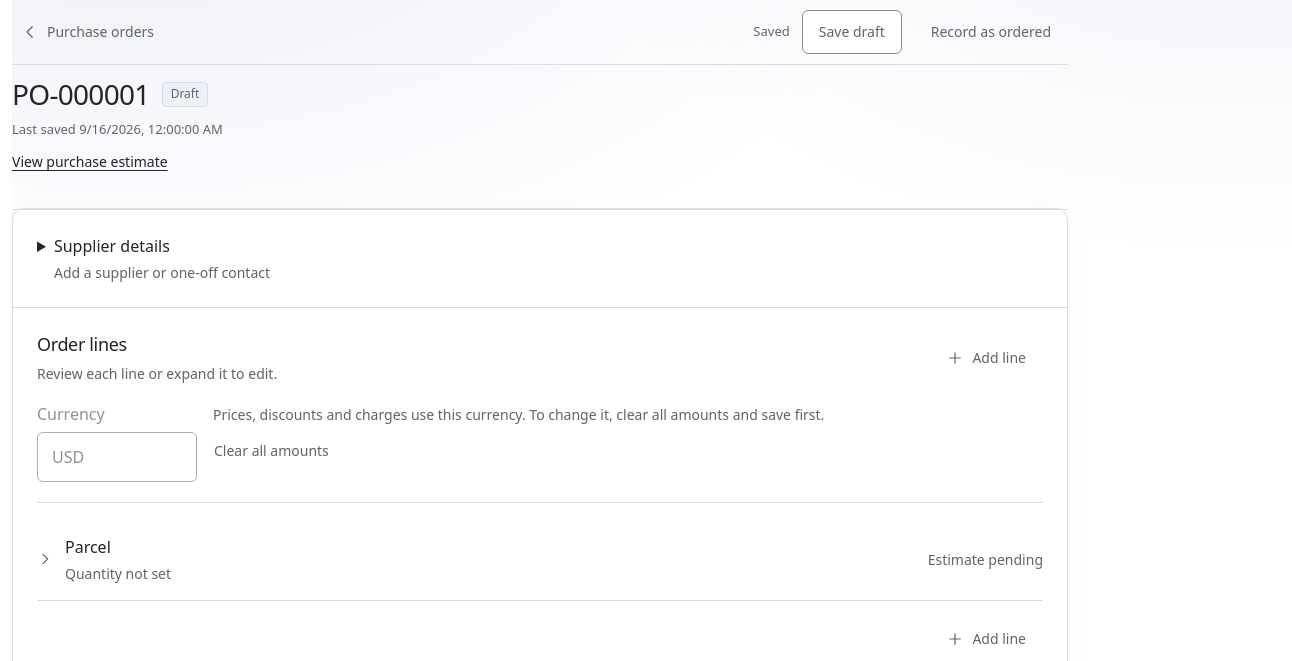
preserves a legacy reference until the owner explicitly adopts perUnit pricing
# THEN the reference is visible without invented quantity or unit price.
Click the heading named "Edit line 1:". click: (88, 547)
box: [37,536,1043,583]
(page scrolled)
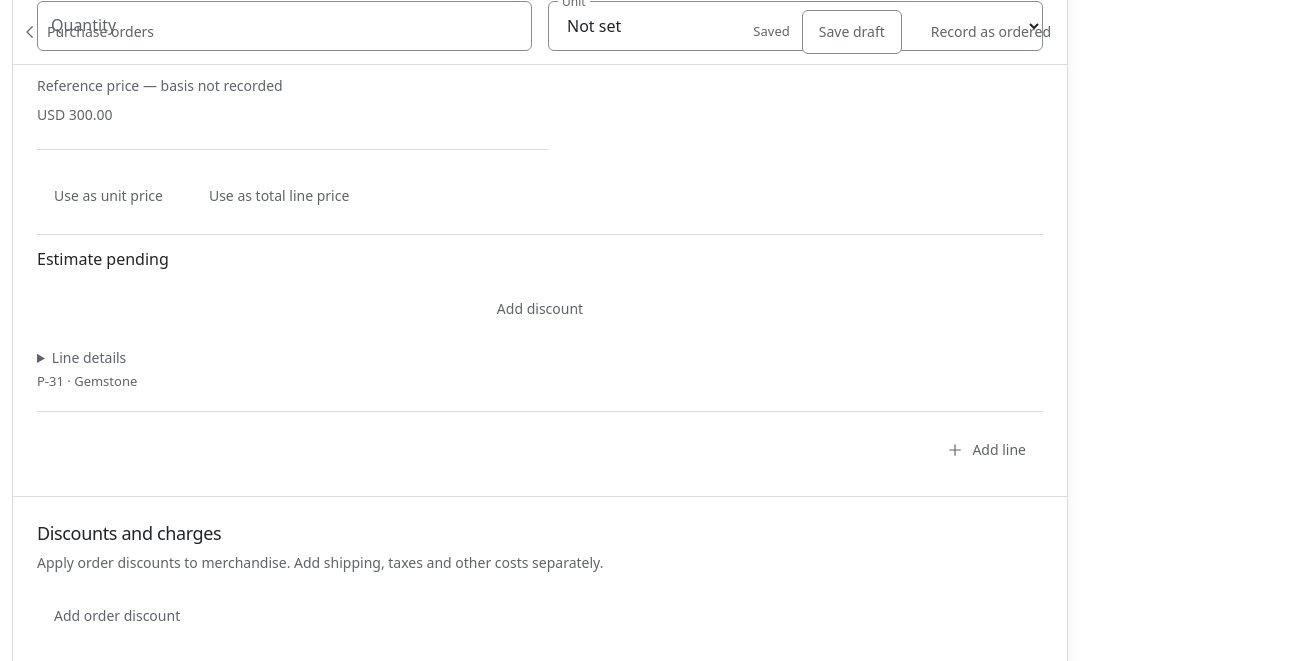
Expected: the text "Reference price — basis not recorded" is shown, [37,76,283,95]
Click the heading "Line details P-31 · Gemstone". click: (87, 369)
box: [37,348,137,390]
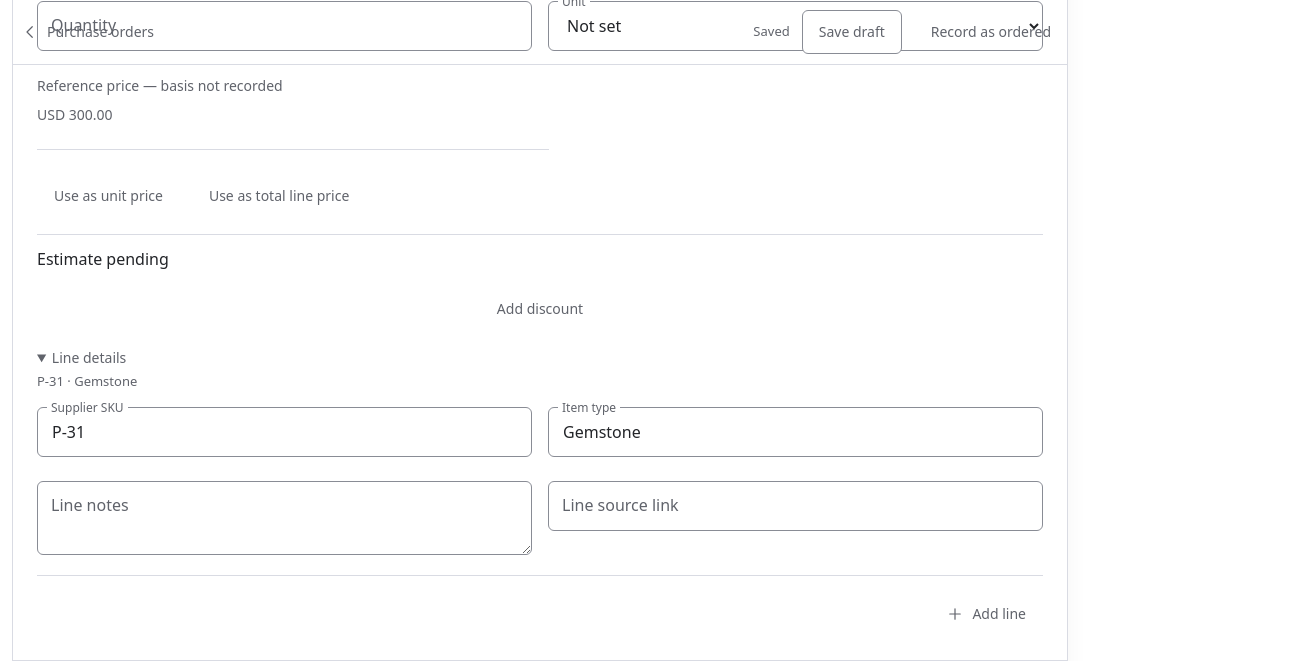
Expected: the field named "Quantity 1" is empty, [37,1,532,51]
Expected: the field named "Supplier SKU 1" is shown, [37,407,532,457]
# WHEN the owner chooses the meaning THEN conversion remains local and incomplete.
Click the button "Use as unit price". click: (108, 196)
box: [37,174,180,218]
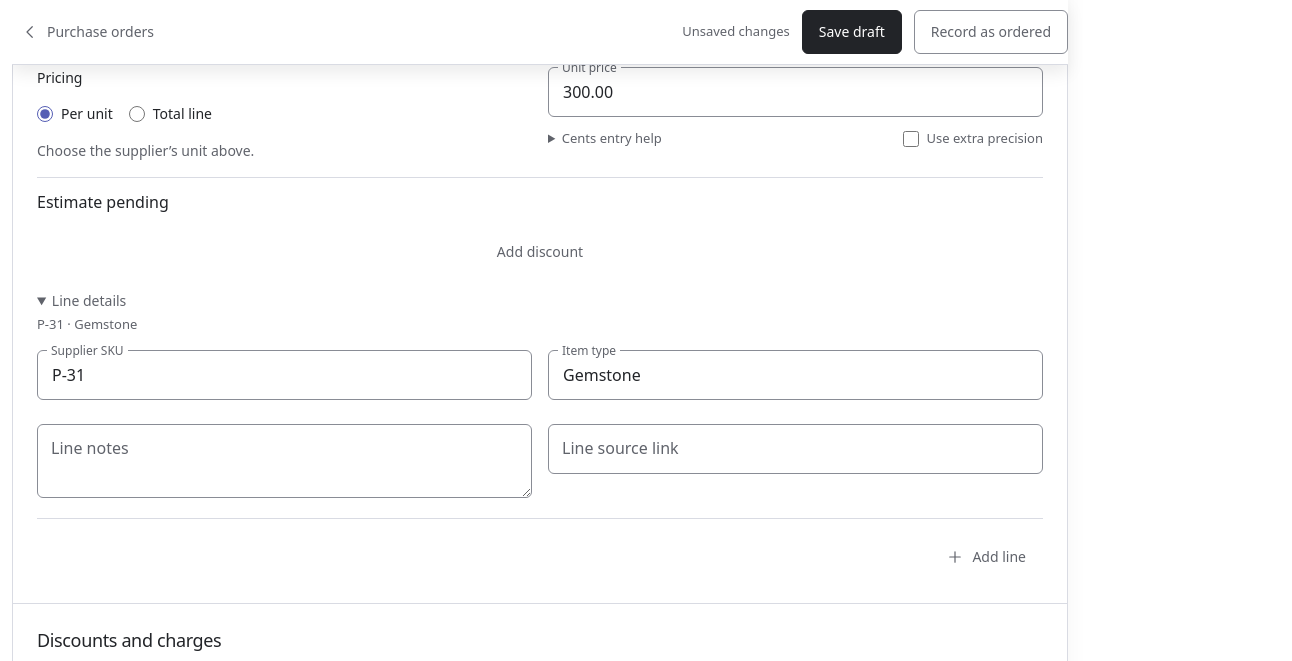
Expected: the dropdown named "Unit 1" shows "Not set", [548,1,1043,51]
Expected: the field named "Unit price 1" holds "300.00", [548,67,1043,117]
